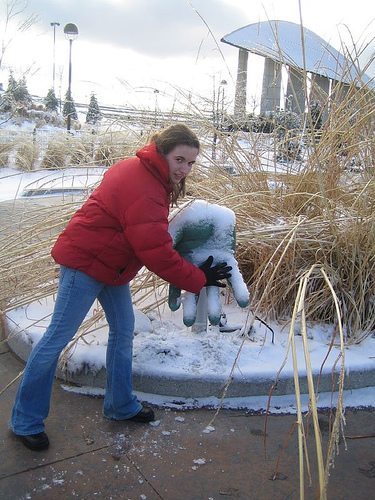without_mask: (159, 135, 202, 187)
